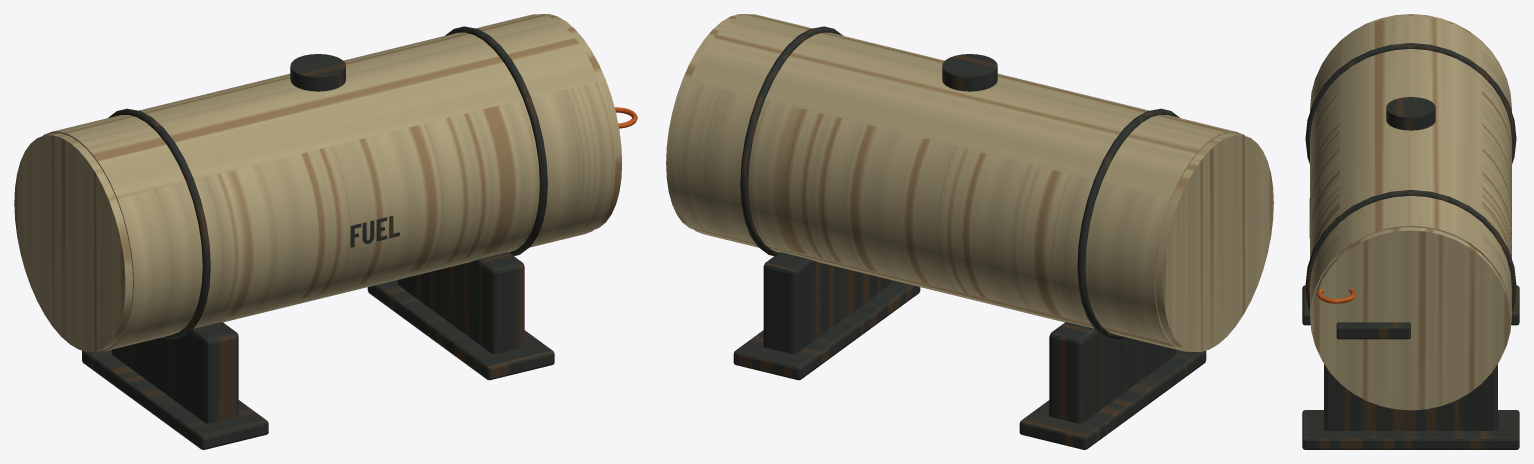
File: fuel-tank-lod.obj
3 views of the same model, side by side, from view 1: azimuth 30°, elevation 25°; view 2: azimuth 150°, elevation 25°; view 3: azimuth 270°, elevation 25° (orthographic). The views are drawn at different scales.
Visible parts, largest first — view 1: fuel-tank.001; view 2: fuel-tank.001; view 3: fuel-tank.001.
Boxes of the visible parts, x1=… form: fuel-tank.001: x1=14, y1=14, x2=637, y2=449; fuel-tank.001: x1=666, y1=14, x2=1273, y2=449; fuel-tank.001: x1=1302, y1=14, x2=1519, y2=449.
Size of the model in its own units: 3.48 by 1.89 by 1.4.
1 material, 1 textured.
